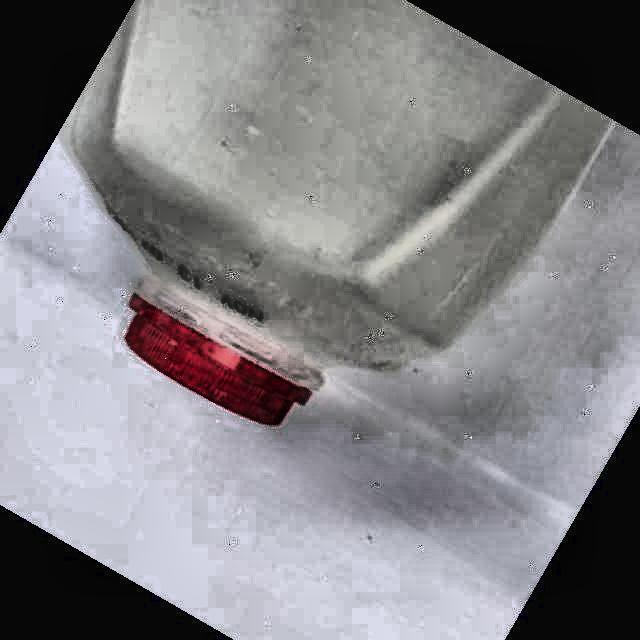plastic: (60, 0, 610, 424)
